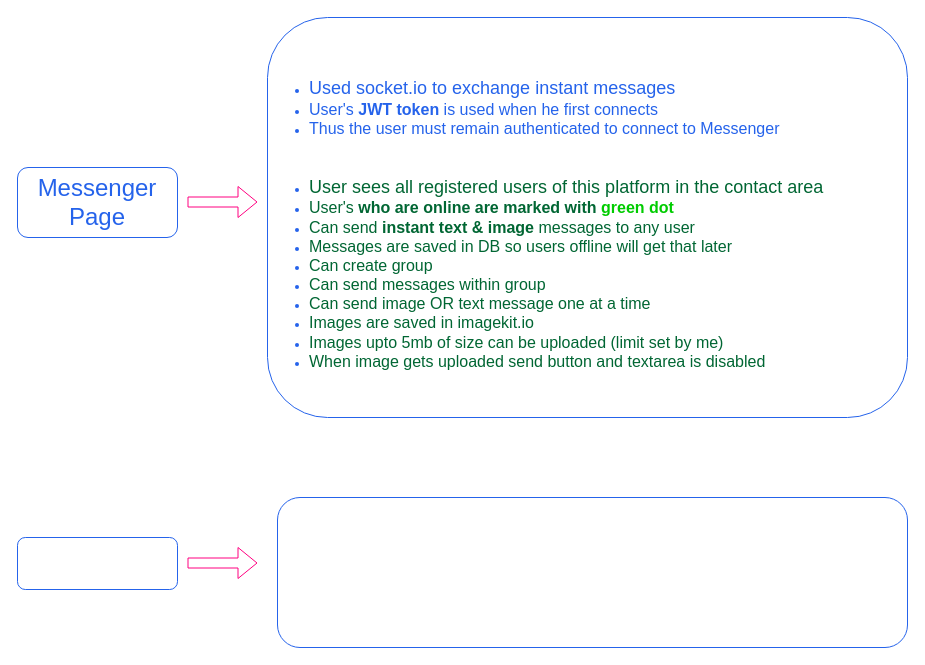
Some shapes in this 925 by 665 pixel diagram are drawn without their labels. The shapes that lost their labels are listed below. From the top down, each one's box as (x1, y1, x2, y2) in pixels, then its label:
(16, 536, 178, 590): Settings Page
(276, 496, 908, 648): User can set a new password Password of Guest users can't be changed
